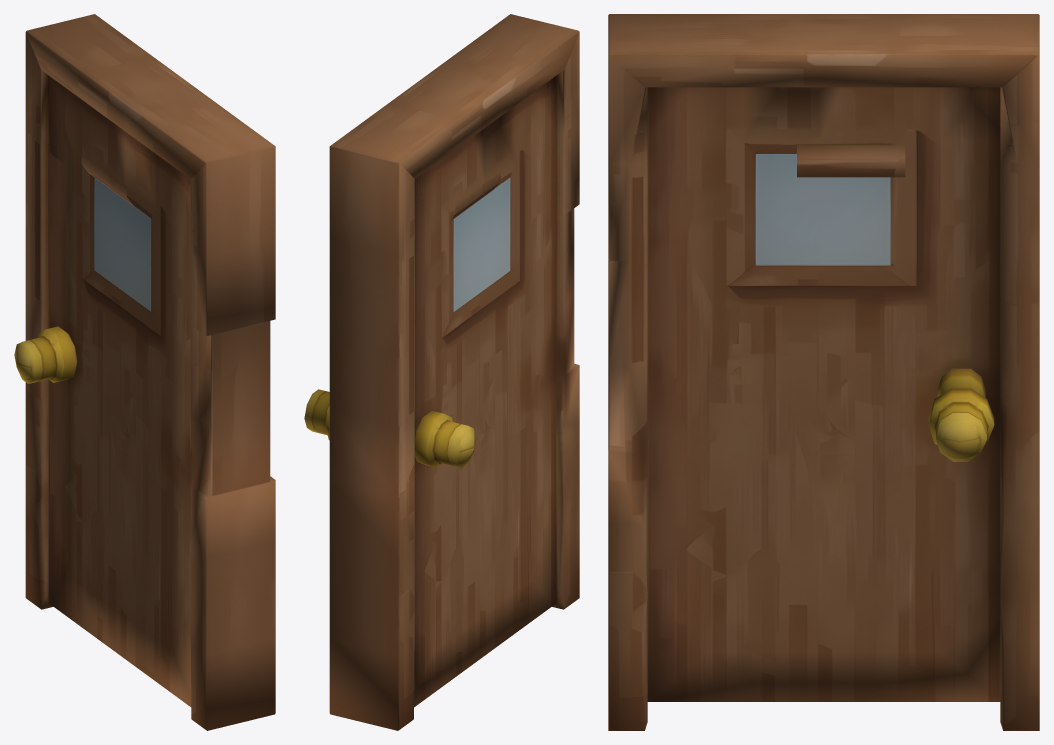
Rendered from gym_door.glb.
3 renders of one model, left to right at view 1: azimuth 30°, elevation 25°; view 2: azimuth 150°, elevation 25°; view 3: azimuth 270°, elevation 25°, orthographic. The views are drawn at different scales.
Visible parts, largest first — view 1: tripo_node_8a7b9dcc-77d5-45e6-8b92-378f3c174f2e; view 2: tripo_node_8a7b9dcc-77d5-45e6-8b92-378f3c174f2e; view 3: tripo_node_8a7b9dcc-77d5-45e6-8b92-378f3c174f2e.
Part boxes in pixels (left/top/right/bottom): tripo_node_8a7b9dcc-77d5-45e6-8b92-378f3c174f2e: left=14, top=14, right=275, bottom=730; tripo_node_8a7b9dcc-77d5-45e6-8b92-378f3c174f2e: left=304, top=14, right=579, bottom=730; tripo_node_8a7b9dcc-77d5-45e6-8b92-378f3c174f2e: left=608, top=14, right=1039, bottom=730.
Size of the model in its own units: 0.3072 by 1 by 0.5773.
1 material, 1 textured.
